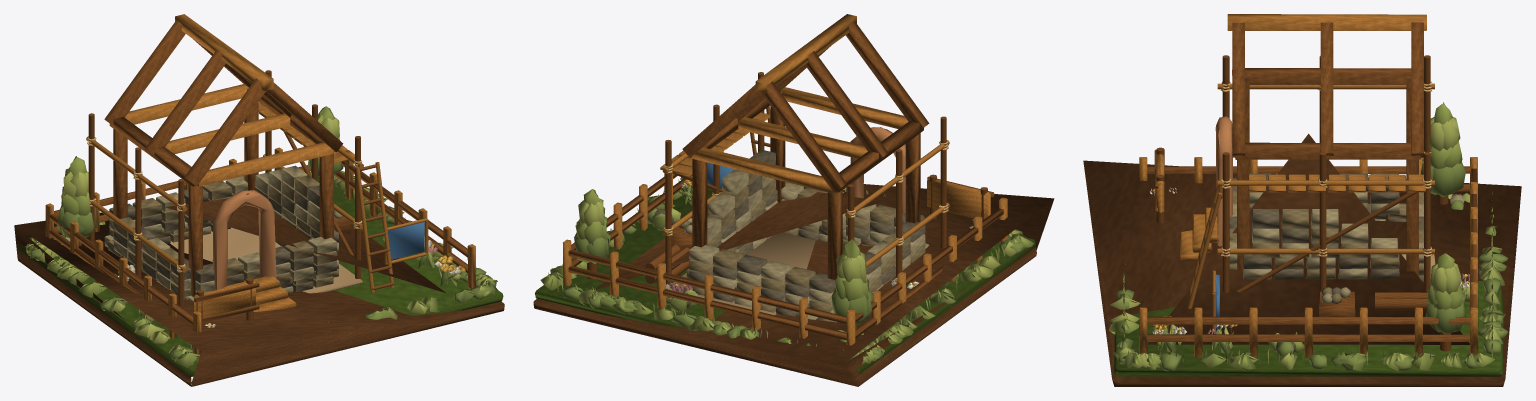
Rendered from stage-3-low.glb.
The picture shows the model from 3 angles, left to right: view 1: azimuth 30°, elevation 25°; view 2: azimuth 150°, elevation 25°; view 3: azimuth 270°, elevation 25°; orthographic projection. The views are drawn at different scales.
Visible parts, largest first — view 1: Surface_Honey wood, Surface_Ochre earth, Surface_Golden end grain, Surface_Moss lawn, Surface_Stone 0, Surface_Stone 1, Surface_Stone 2, Surface_Foliage 1, Surface_Terracotta, Surface_Foliage 0, Surface_Foliage 2, Surface_Garden soil (+1 smaller); view 2: Surface_Honey wood, Surface_Ochre earth, Surface_Golden end grain, Surface_Moss lawn, Surface_Stone 1, Surface_Stone 0, Surface_Foliage 1, Surface_Stone 2, Surface_Foliage 0, Surface_Foliage 2, Surface_Garden soil, Surface_Terracotta; view 3: Surface_Ochre earth, Surface_Honey wood, Surface_Golden end grain, Surface_Moss lawn, Surface_Foliage 0, Surface_Foliage 1, Surface_Stone 1, Surface_Stone 2, Surface_Foliage 2, Surface_Stone 0, Surface_Terracotta, Surface_Felt cream.
Boxes of the visible parts, x1=… form: Surface_Honey wood: x1=49, y1=20, x2=467, y2=326; Surface_Ochre earth: x1=14, y1=198, x2=504, y2=386; Surface_Golden end grain: x1=45, y1=14, x2=475, y2=354; Surface_Moss lawn: x1=18, y1=176, x2=503, y2=376; Surface_Stone 0: x1=105, y1=175, x2=338, y2=299; Surface_Stone 1: x1=64, y1=165, x2=343, y2=302; Surface_Stone 2: x1=109, y1=185, x2=338, y2=291; Surface_Foliage 1: x1=25, y1=106, x2=497, y2=367; Surface_Terracotta: x1=212, y1=190, x2=276, y2=290; Surface_Foliage 0: x1=30, y1=157, x2=497, y2=359; Surface_Foliage 2: x1=26, y1=115, x2=494, y2=360; Surface_Garden soil: x1=170, y1=227, x2=362, y2=293; Surface_Honey wood: x1=568, y1=21, x2=1003, y2=340; Surface_Ochre earth: x1=533, y1=184, x2=1054, y2=386; Surface_Golden end grain: x1=563, y1=14, x2=1007, y2=345; Surface_Moss lawn: x1=535, y1=186, x2=1035, y2=374; Surface_Stone 1: x1=684, y1=169, x2=950, y2=332; Surface_Stone 0: x1=679, y1=169, x2=925, y2=322; Surface_Foliage 1: x1=540, y1=179, x2=1033, y2=364; Surface_Stone 2: x1=652, y1=149, x2=925, y2=316; Surface_Foliage 0: x1=547, y1=177, x2=1024, y2=359; Surface_Foliage 2: x1=547, y1=187, x2=1024, y2=363; Surface_Garden soil: x1=672, y1=232, x2=815, y2=315; Surface_Terracotta: x1=850, y1=127, x2=905, y2=213; Surface_Ochre earth: x1=1083, y1=133, x2=1521, y2=386; Surface_Honey wood: x1=1147, y1=22, x2=1476, y2=351; Surface_Golden end grain: x1=1139, y1=14, x2=1478, y2=357; Surface_Moss lawn: x1=1114, y1=281, x2=1503, y2=376; Surface_Foliage 0: x1=1115, y1=162, x2=1508, y2=371; Surface_Foliage 1: x1=1109, y1=102, x2=1505, y2=371; Surface_Stone 1: x1=1229, y1=191, x2=1464, y2=303; Surface_Stone 2: x1=1229, y1=173, x2=1466, y2=352; Surface_Foliage 2: x1=1109, y1=117, x2=1504, y2=369; Surface_Stone 0: x1=1229, y1=173, x2=1423, y2=303; Surface_Terracotta: x1=1215, y1=116, x2=1232, y2=246; Surface_Felt cream: x1=1220, y1=81, x2=1432, y2=256.
Bounding box in the file's own units: 7.43 × 5.21 × 7.69.
17 materials, 8 textured.
